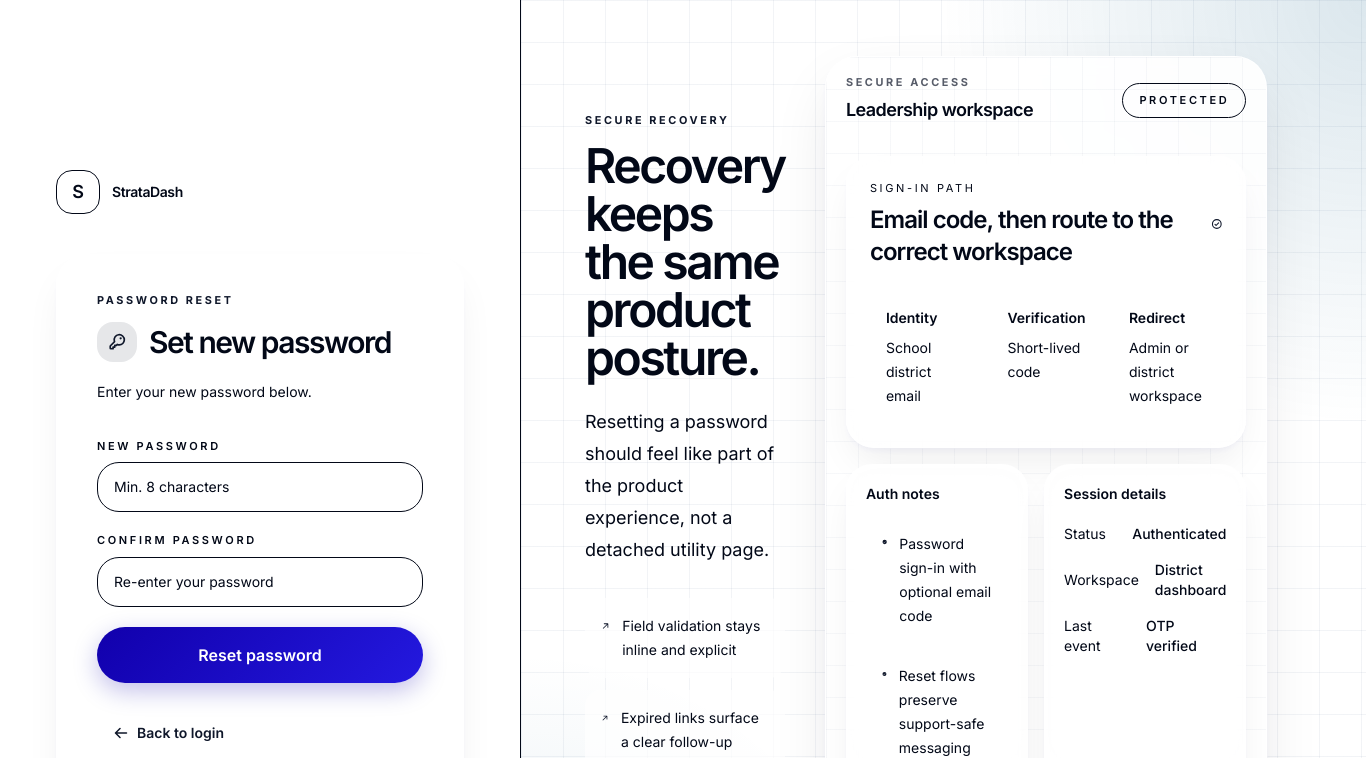
Scenario: ResetPassword › with token › shows validation error for mismatched passwords
The width and height of the screenshot is (1366, 758).
Type "password123" into the password field labelled "New password" at [260, 487], box x1=97 y1=462 x2=423 y2=512
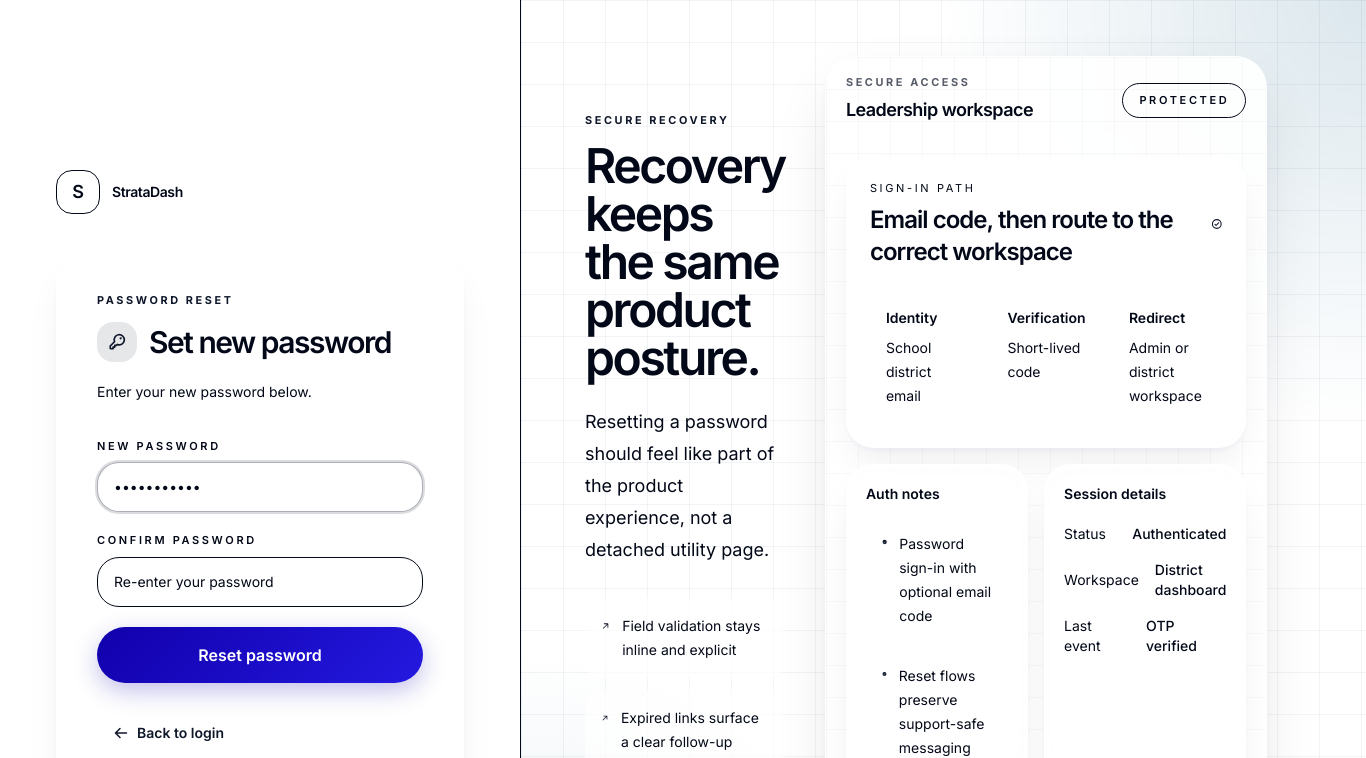
Type "different123" into the password field labelled "Confirm password" at [260, 582], box x1=97 y1=557 x2=423 y2=607
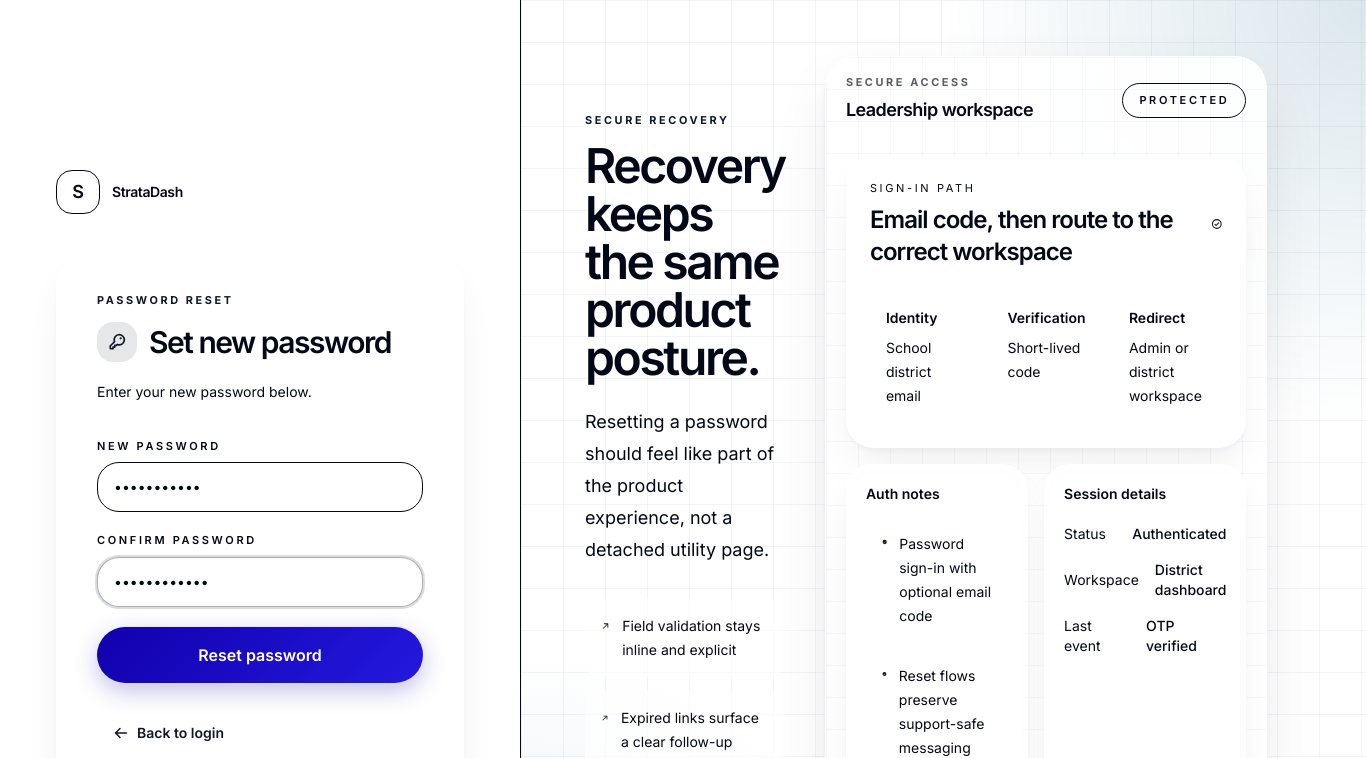
Click the button "Reset password" at [260, 655], box x1=97 y1=627 x2=423 y2=683
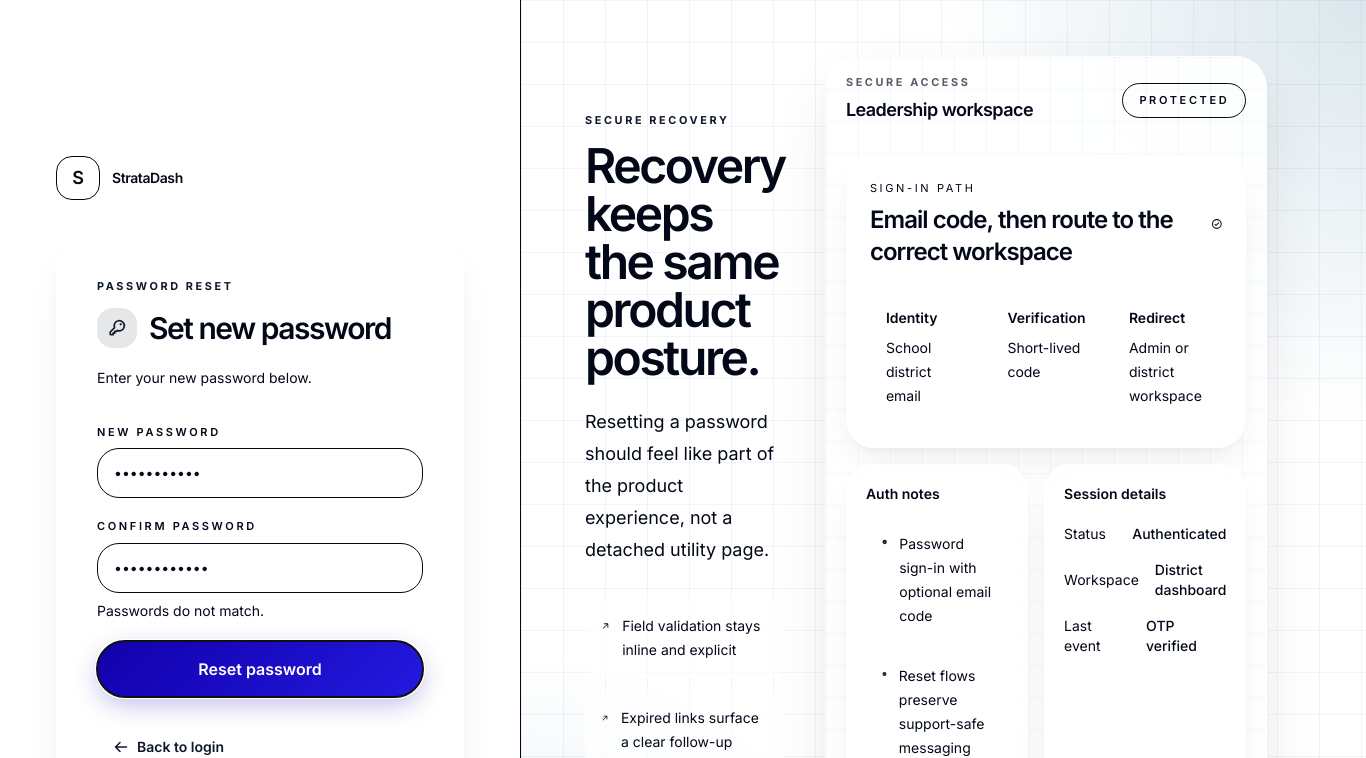
Check: the text "Passwords do not match." is shown, box x1=97 y1=602 x2=264 y2=619
